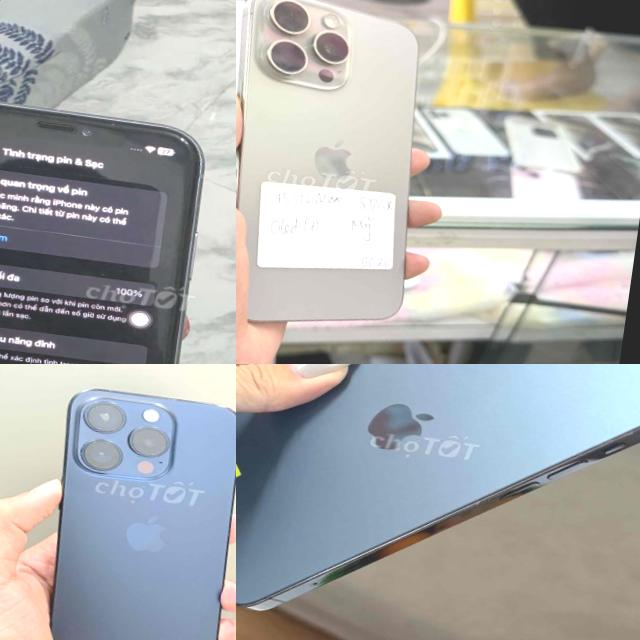gen_12_13: (236, 364, 640, 640)
gen_15: (236, 0, 456, 352), (0, 364, 236, 640)
gen_x_xs: (0, 76, 236, 364)
